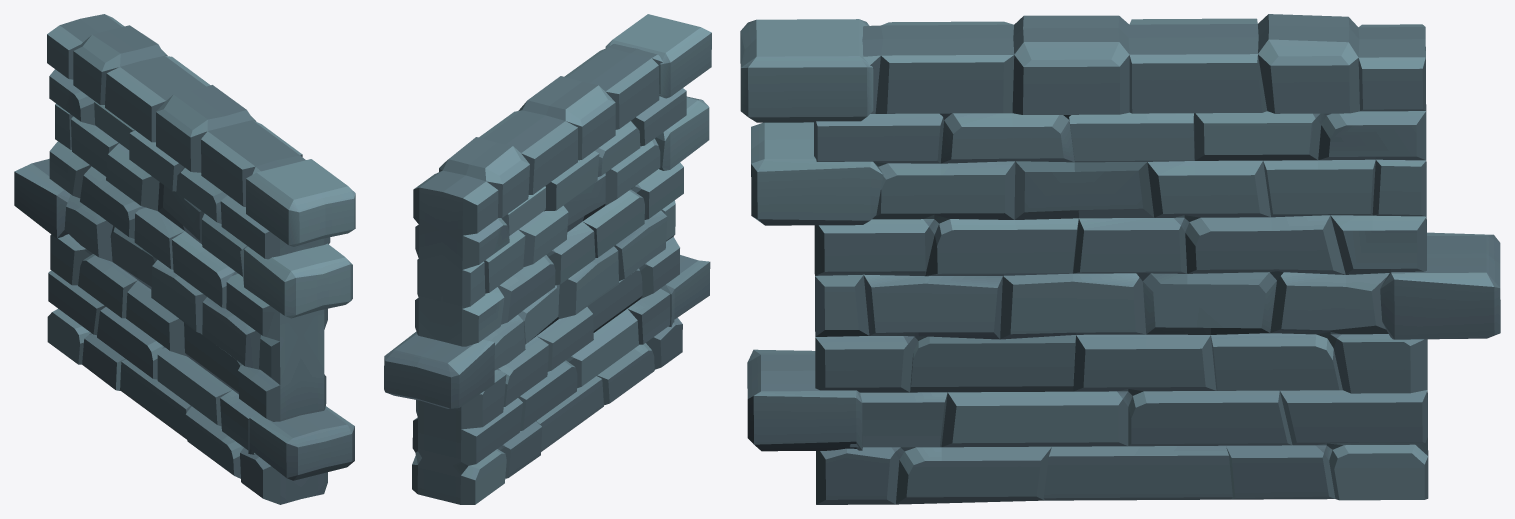
The model's file is Modular_Dungeon_Wall_ExtraBricks.fbx.
3 renders of one model, left to right at view 1: azimuth 30°, elevation 25°; view 2: azimuth 150°, elevation 25°; view 3: azimuth 270°, elevation 25°, orthographic. The views are drawn at different scales.
Visible parts, largest first — view 1: Wall_ExtraBricks; view 2: Wall_ExtraBricks; view 3: Wall_ExtraBricks.
Boxes of the visible parts, box(x1,y1,x2,y2) form: Wall_ExtraBricks: box(14, 14, 355, 504); Wall_ExtraBricks: box(384, 14, 711, 504); Wall_ExtraBricks: box(740, 14, 1500, 504).
Bounding box in the file's own units: 1.28 × 5.22 × 7.77.
Materials: 1 (1 with a texture image).
